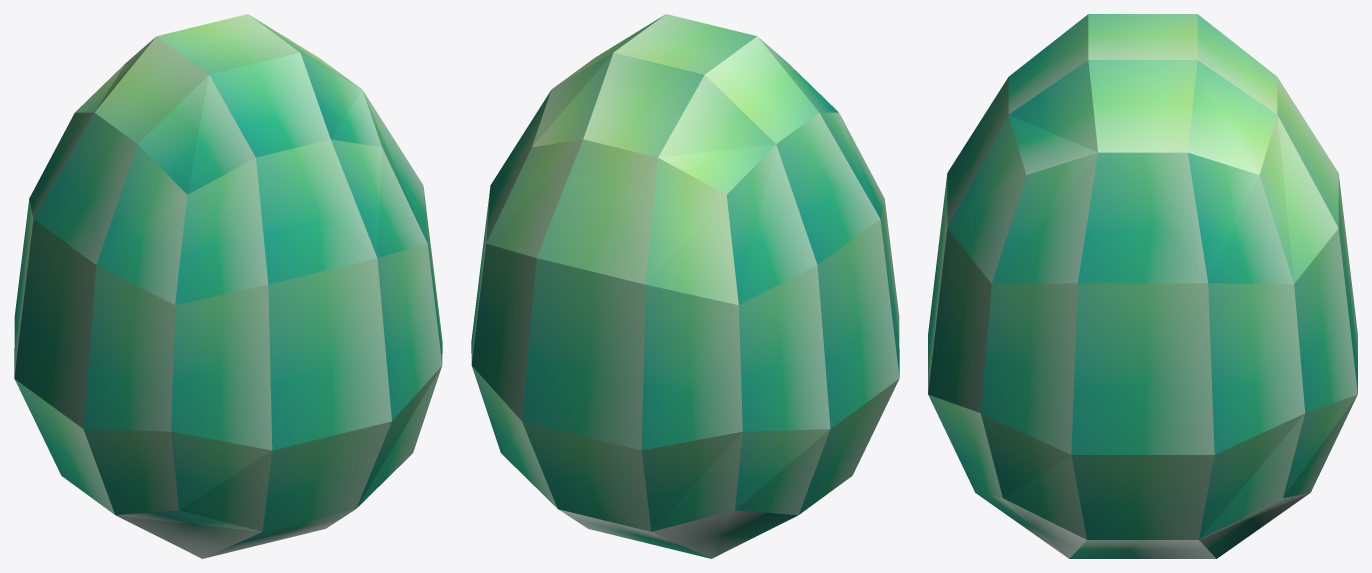
File: egg01.fbx
3 renders of one model, left to right at view 1: azimuth 30°, elevation 25°; view 2: azimuth 150°, elevation 25°; view 3: azimuth 270°, elevation 25°, orthographic. The views are drawn at different scales.
Visible parts, largest first — view 1: egg01; view 2: egg01; view 3: egg01.
Part boxes in pixels (x1,y1,x2,y2): egg01: [14, 14, 442, 558]; egg01: [471, 14, 899, 558]; egg01: [928, 14, 1357, 558].
Bounding box in the file's own units: 74.25 × 93.54 × 74.25.
